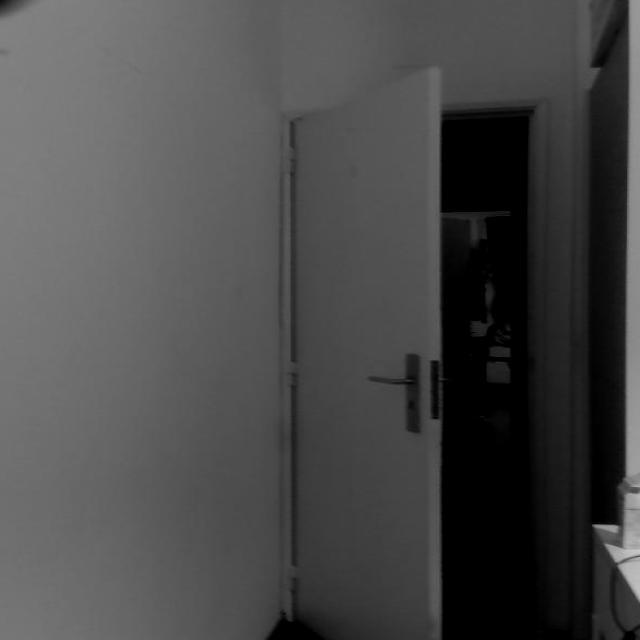door: (287, 65, 443, 639)
